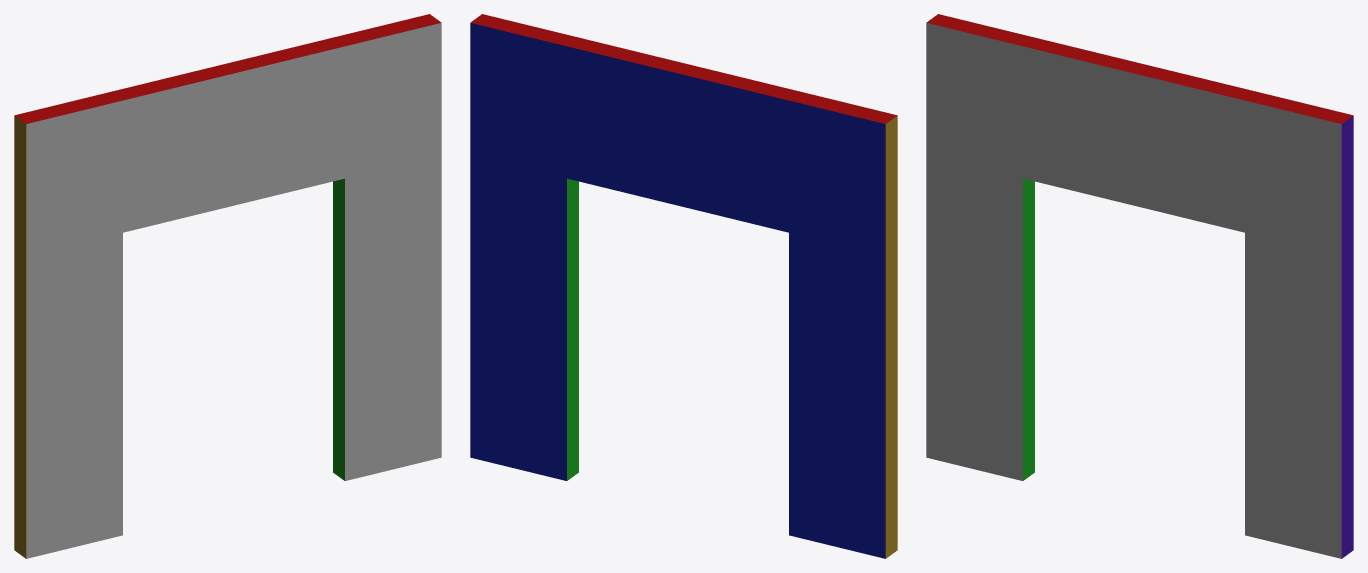
File: Wall_Door_02a.fbx
3 views of the same model, side by side, from view 1: azimuth 30°, elevation 25°; view 2: azimuth 150°, elevation 25°; view 3: azimuth 330°, elevation 25° (orthographic).
Visible parts, largest first — view 1: Wall_Door_02a; view 2: Wall_Door_02a; view 3: Wall_Door_02a.
Boxes of the visible parts, bbox=[...] form: Wall_Door_02a: bbox=[14, 14, 441, 558]; Wall_Door_02a: bbox=[470, 14, 897, 558]; Wall_Door_02a: bbox=[926, 14, 1353, 558].
Bounding box in the file's own units: 3 × 0.15 × 3.
